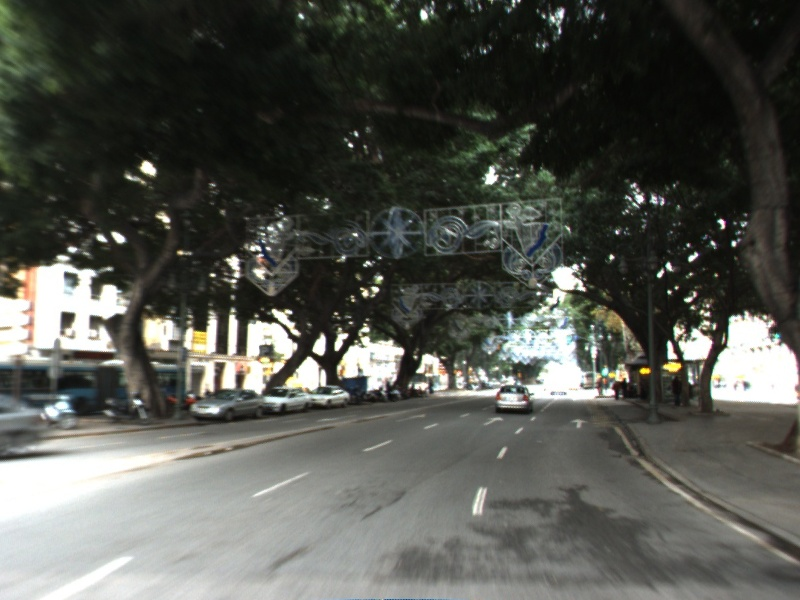STRAIGHT: (393, 412, 428, 424), (481, 415, 506, 427), (568, 417, 591, 430)
